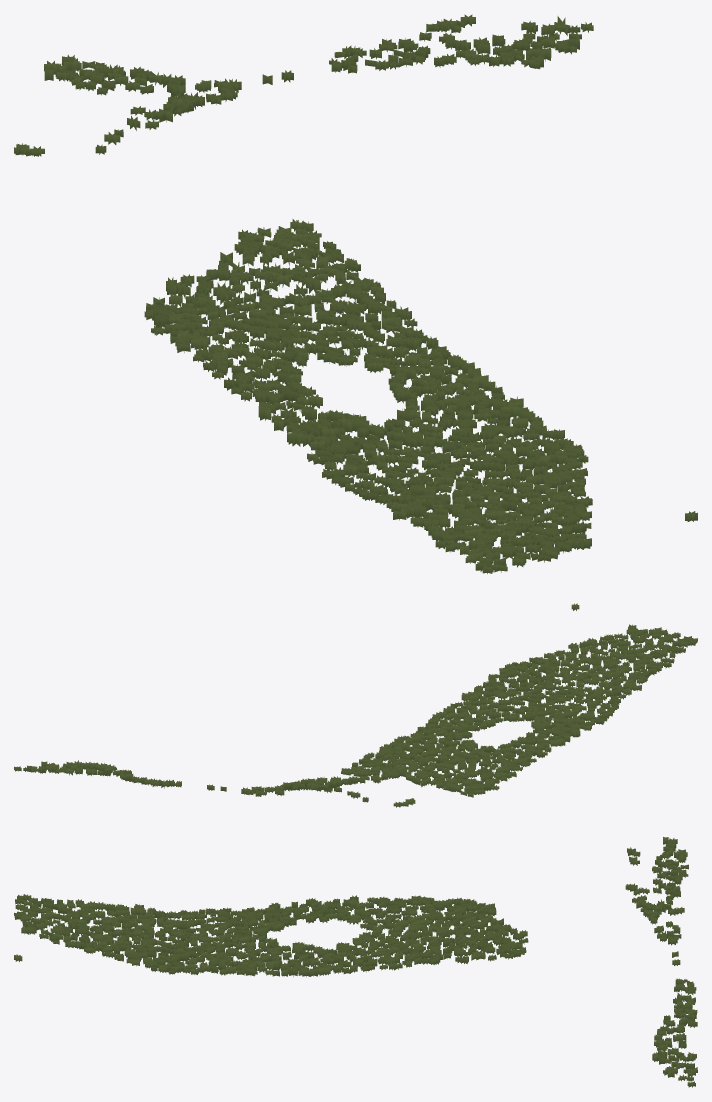
File: TRB8-GRASS-CHUNK-7-1.glb
3 renders of one model, top to bottom at view 1: azimuth 30°, elevation 25°; view 2: azimuth 150°, elevation 25°; view 3: azimuth 270°, elevation 25°, orthographic. The views are drawn at different scales.
Visible parts, largest first — view 1: TRB8-GRASS-CHUNK-7-1; view 2: TRB8-GRASS-CHUNK-7-1; view 3: TRB8-GRASS-CHUNK-7-1.
Part boxes in pixels (x1,y1,x2,y2): TRB8-GRASS-CHUNK-7-1: (14,14,697,573); TRB8-GRASS-CHUNK-7-1: (14,603,697,807); TRB8-GRASS-CHUNK-7-1: (14,837,697,1087).
Bounding box in the file's own units: 27.89 × 6.21 × 40.51.
1 material, 1 textured.
